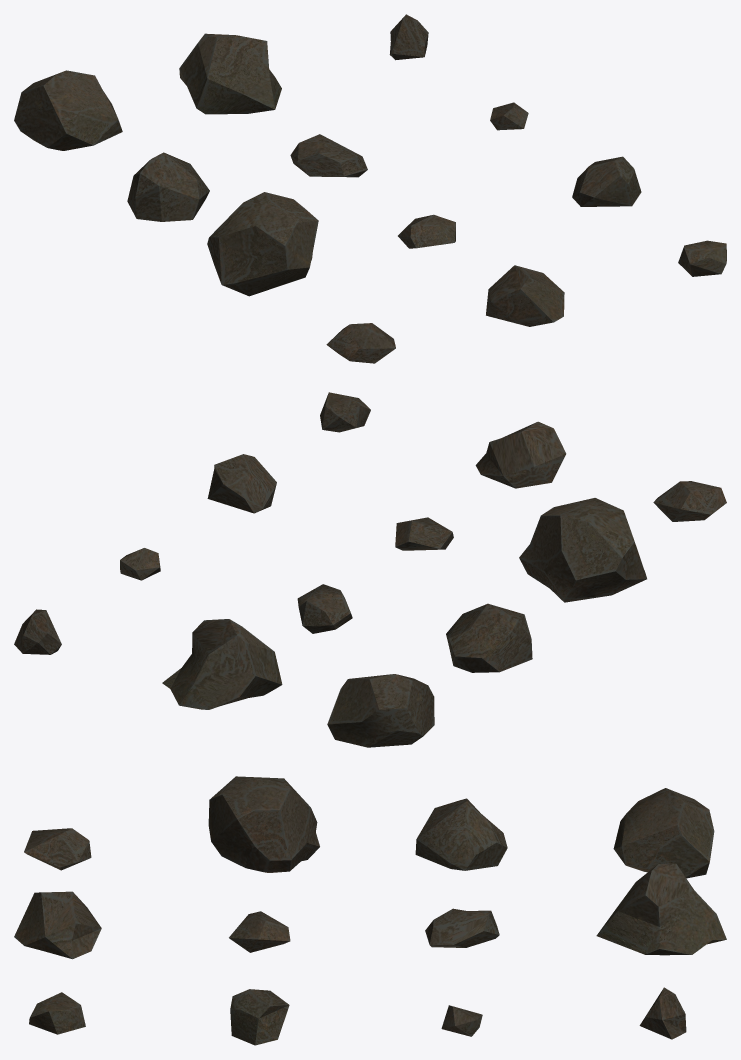
Rendered from stones .fbx.
3 renders of one model, top to bottom at view 1: azimuth 30°, elevation 25°; view 2: azimuth 150°, elevation 25°; view 3: azimuth 270°, elevation 25°, orthographic. The views are drawn at different scales.
Visible parts, largest first — view 1: model_0.001, model_0.003, model_0.004, model_0.005, model_0.007, model_0.008, model_0.006, model_0.002, model_0.012, model_0.010, model_0.009, model_0.011; view 2: model_0.001, model_0.003, model_0.004, model_0.005, model_0.007, model_0.008, model_0.002, model_0.006, model_0.012, model_0.010, model_0.009, model_0.011; view 3: model_0.001, model_0.003, model_0.004, model_0.005, model_0.007, model_0.008, model_0.006, model_0.002, model_0.010, model_0.012, model_0.009, model_0.011.
Part boxes in pixels (bbox=[...]): model_0.001: bbox=[207, 192, 318, 296]; model_0.003: bbox=[179, 33, 281, 114]; model_0.004: bbox=[14, 70, 122, 150]; model_0.005: bbox=[127, 152, 209, 221]; model_0.007: bbox=[486, 265, 564, 326]; model_0.008: bbox=[572, 156, 641, 206]; model_0.006: bbox=[290, 134, 367, 177]; model_0.002: bbox=[326, 323, 395, 363]; model_0.012: bbox=[398, 214, 455, 248]; model_0.010: bbox=[678, 240, 726, 276]; model_0.009: bbox=[389, 14, 428, 60]; model_0.011: bbox=[490, 102, 528, 130]; model_0.001: bbox=[519, 498, 646, 602]; model_0.003: bbox=[162, 619, 282, 709]; model_0.004: bbox=[327, 674, 434, 747]; model_0.005: bbox=[446, 603, 532, 672]; model_0.007: bbox=[475, 421, 566, 488]; model_0.008: bbox=[207, 454, 276, 513]; model_0.002: bbox=[653, 481, 726, 521]; model_0.006: bbox=[297, 584, 352, 633]; model_0.012: bbox=[395, 517, 453, 550]; model_0.010: bbox=[320, 392, 370, 432]; model_0.009: bbox=[14, 609, 61, 654]; model_0.011: bbox=[120, 548, 160, 580]; model_0.001: bbox=[208, 776, 319, 872]; model_0.003: bbox=[596, 863, 726, 955]; model_0.004: bbox=[613, 788, 714, 878]; model_0.005: bbox=[415, 798, 507, 870]; model_0.007: bbox=[14, 891, 101, 959]; model_0.008: bbox=[230, 989, 289, 1045]; model_0.006: bbox=[425, 908, 499, 947]; model_0.002: bbox=[24, 828, 91, 870]; model_0.010: bbox=[29, 992, 85, 1034]; model_0.012: bbox=[229, 911, 290, 952]; model_0.009: bbox=[639, 987, 686, 1039]; model_0.011: bbox=[441, 1005, 482, 1036].
Size of the model in its own units: 140 by 25.43 by 199.
